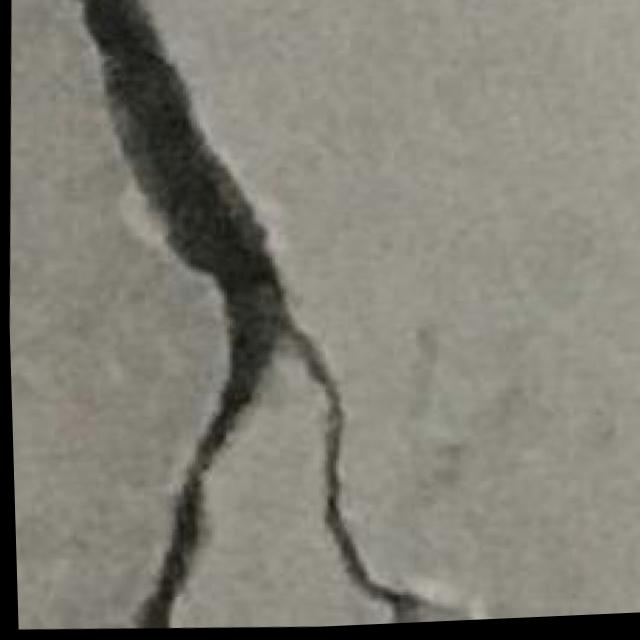Crack: (35, 0, 543, 639)
